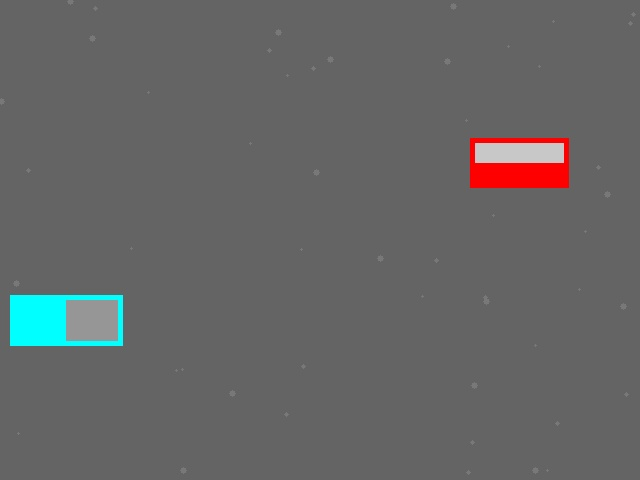car: (470, 138, 568, 187)
truck: (10, 295, 122, 345)
